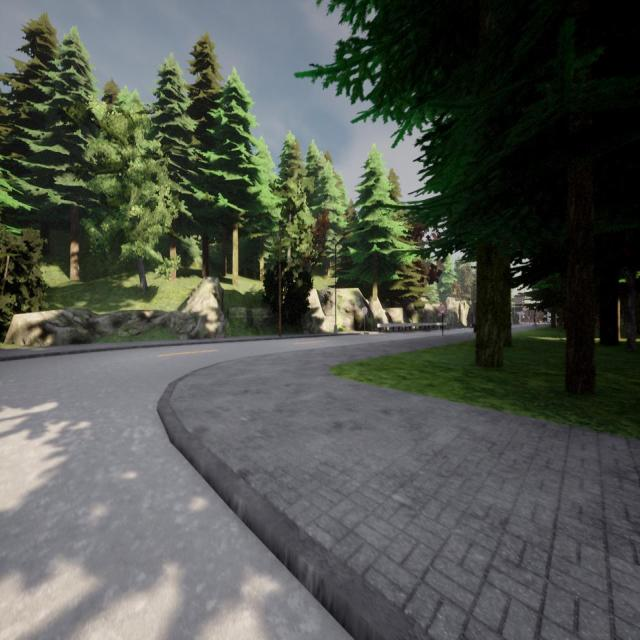Traffic_Signs: (439, 304, 447, 314), (362, 306, 368, 315), (522, 315, 525, 319)
